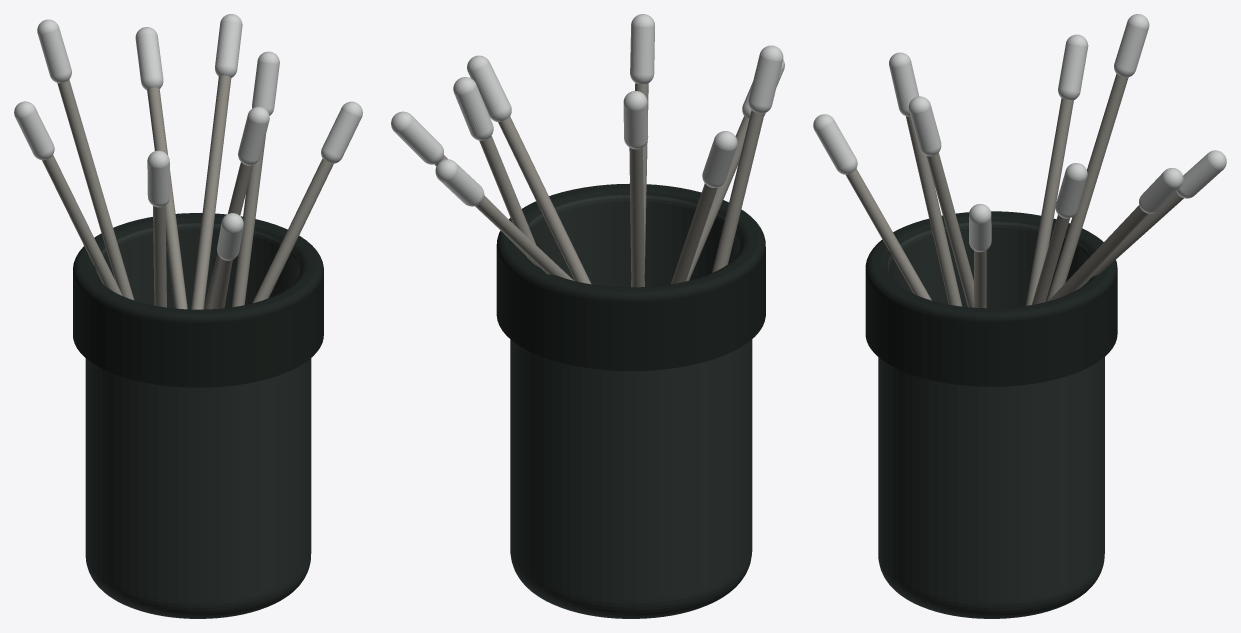
The model's file is SwabPouch.fbx.
3 views of the same model, side by side, from view 1: azimuth 30°, elevation 25°; view 2: azimuth 150°, elevation 25°; view 3: azimuth 270°, elevation 25° (orthographic). The views are drawn at different scales.
Parts seen in each view (by area): view 1: Cylinder, Stem.006, Stem.008, Stem.007, Stem.005, Stem.001, Stem.004, Brush.005, Brush.008, Brush.006, Brush.007, Brush.001 (+7 smaller); view 2: Cylinder, Stem.005, Stem, Stem.008, Brush.003, Brush, Brush.005, Stem.007, Brush.004, Stem.004, Brush.006, Stem.001 (+5 smaller); view 3: Cylinder, Stem.008, Stem.001, Stem, Stem.003, Stem.002, Stem.006, Brush.001, Brush.002, Brush.008, Brush.003, Brush.007 (+7 smaller).
Boxes of the visible parts, x1,y1,x2,y2 form: Cylinder: [73, 213, 323, 618]; Stem.006: [191, 75, 231, 309]; Stem.008: [57, 79, 134, 300]; Stem.007: [147, 87, 187, 309]; Stem.005: [252, 158, 333, 303]; Stem.001: [42, 155, 122, 295]; Stem.004: [231, 135, 265, 307]; Brush.005: [321, 101, 362, 163]; Brush.008: [37, 19, 71, 83]; Brush.006: [215, 14, 242, 77]; Brush.007: [135, 27, 163, 90]; Brush.001: [14, 101, 54, 160]; Cylinder: [496, 183, 765, 618]; Stem.005: [498, 116, 591, 284]; Stem: [712, 110, 764, 272]; Stem.008: [629, 147, 644, 287]; Brush.003: [630, 14, 654, 83]; Brush: [748, 45, 783, 113]; Brush.005: [467, 55, 511, 122]; Stem.007: [475, 196, 573, 280]; Brush.004: [453, 77, 493, 140]; Stem.004: [479, 136, 535, 263]; Brush.006: [391, 111, 443, 164]; Stem.001: [671, 183, 717, 284]; Cylinder: [865, 211, 1117, 618]; Stem.008: [1046, 74, 1128, 301]; Stem.001: [1025, 98, 1073, 305]; Stem: [906, 116, 962, 306]; Stem.003: [926, 152, 973, 307]; Stem.002: [846, 169, 931, 300]; Stem.006: [1048, 205, 1147, 301]; Brush.001: [1058, 34, 1088, 100]; Brush.002: [813, 114, 857, 174]; Brush.008: [1114, 14, 1149, 77]; Brush.003: [908, 96, 941, 156]; Brush.007: [1176, 150, 1226, 198].
Bounding box in the file's own units: 30.44 × 51.36 × 36.47.
